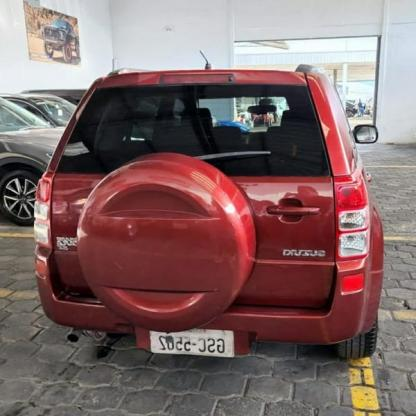Placa: (149, 330, 233, 355)
